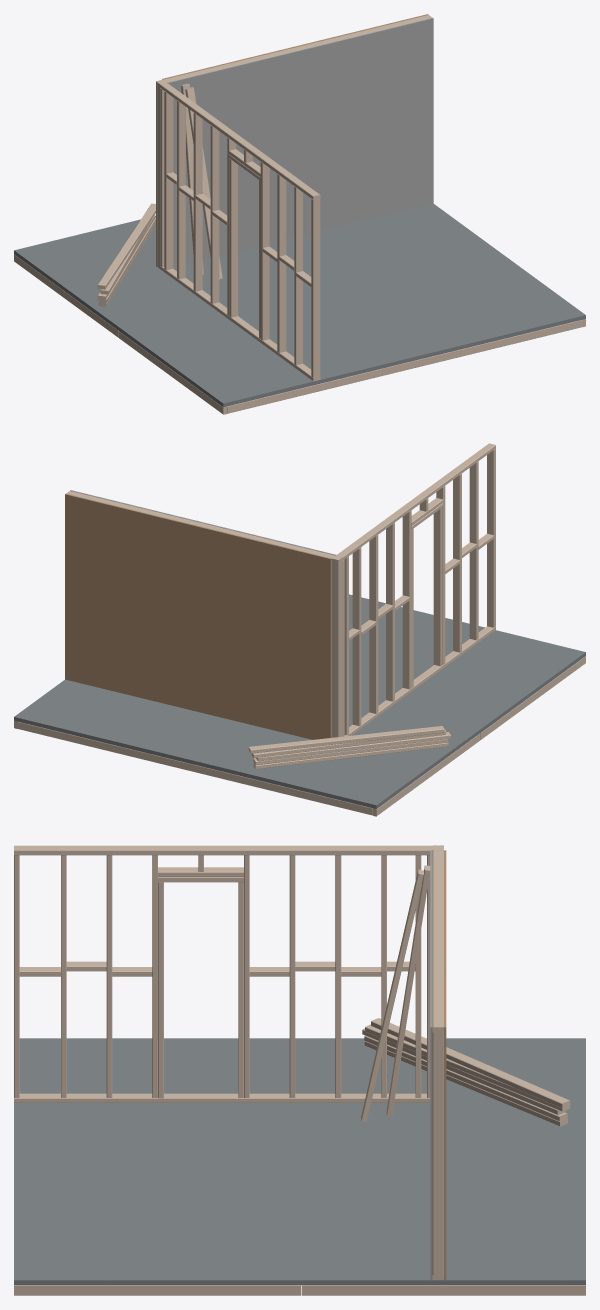
The model's file is Workshop_Set.fbx.
The picture shows the model from 3 angles, top to bottom: view 1: azimuth 30°, elevation 25°; view 2: azimuth 150°, elevation 25°; view 3: azimuth 270°, elevation 25°; orthographic projection. The views are drawn at different scales.
Visible parts, largest first — view 1: ground, drywall_panel, stud_frame, stud_pile; view 2: OSB_Panel, ground, stud_frame, stud_pile; view 3: ground, stud_frame, stud_pile, drywall_panel, OSB_Panel.
Boxes of the visible parts, x1,y1,x2,y2 form: ground: (14, 203, 585, 414); drywall_panel: (167, 17, 433, 266); stud_frame: (156, 15, 432, 381); stud_pile: (97, 83, 222, 306); OSB_Panel: (65, 494, 331, 739); ground: (14, 594, 585, 816); stud_frame: (66, 443, 495, 737); stud_pile: (248, 726, 450, 769); ground: (14, 1038, 585, 1295); stud_frame: (14, 845, 443, 1280); stud_pile: (361, 865, 570, 1126); drywall_panel: (430, 850, 432, 1280); OSB_Panel: (444, 850, 446, 1280).
Size of the model in its own units: 500 by 259 by 500.
